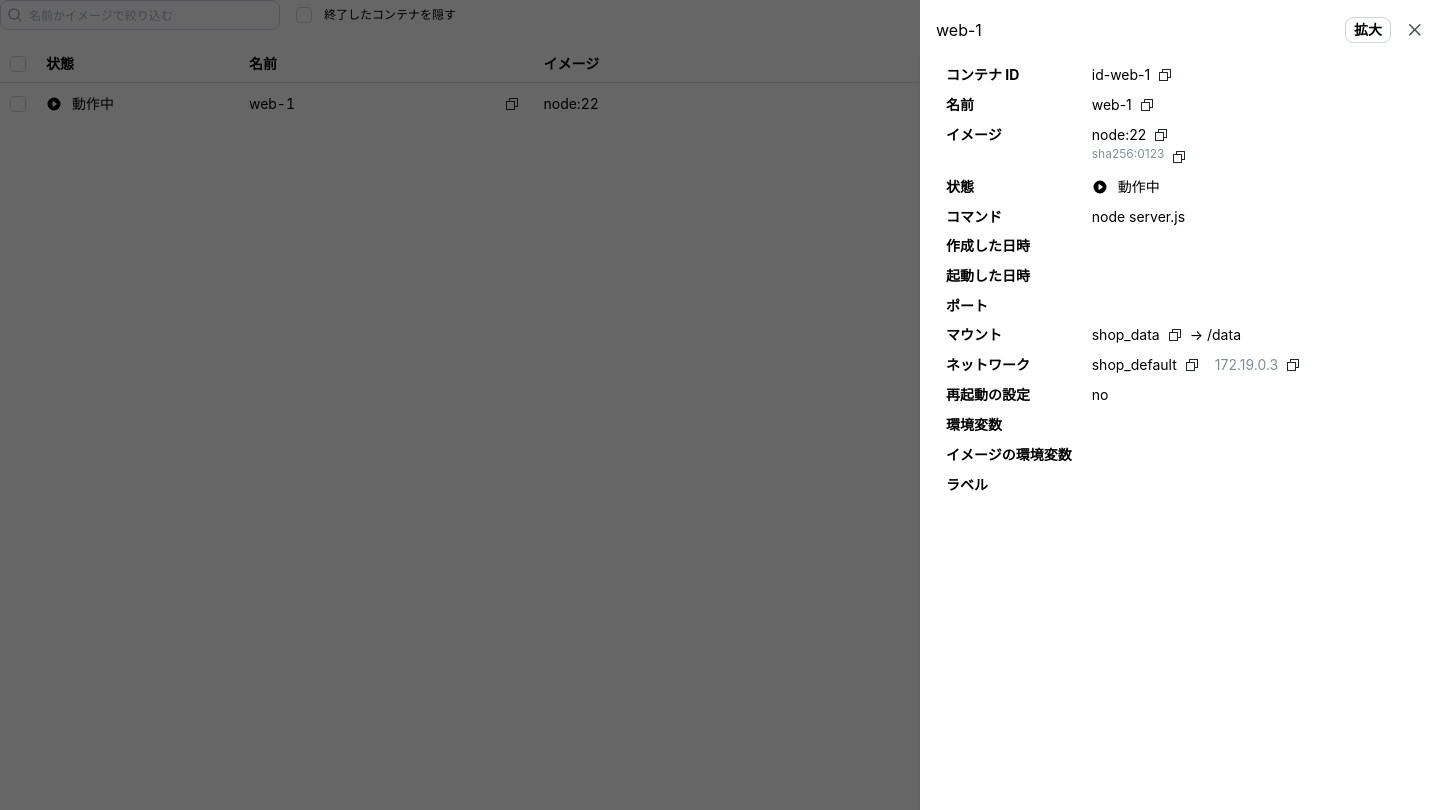
Scenario: ContainersView の詳細 › 「ボリューム shop_data の名前をコピー」を押すと、ボタンの左の値 shop_data をクリップボードに書き込み、ボタンの上に「コピーしました」を出す
The image size is (1440, 810).
Click the button named "ボリューム shop_data の名前をコピー" at (1175, 335), box [1164, 324, 1186, 346]
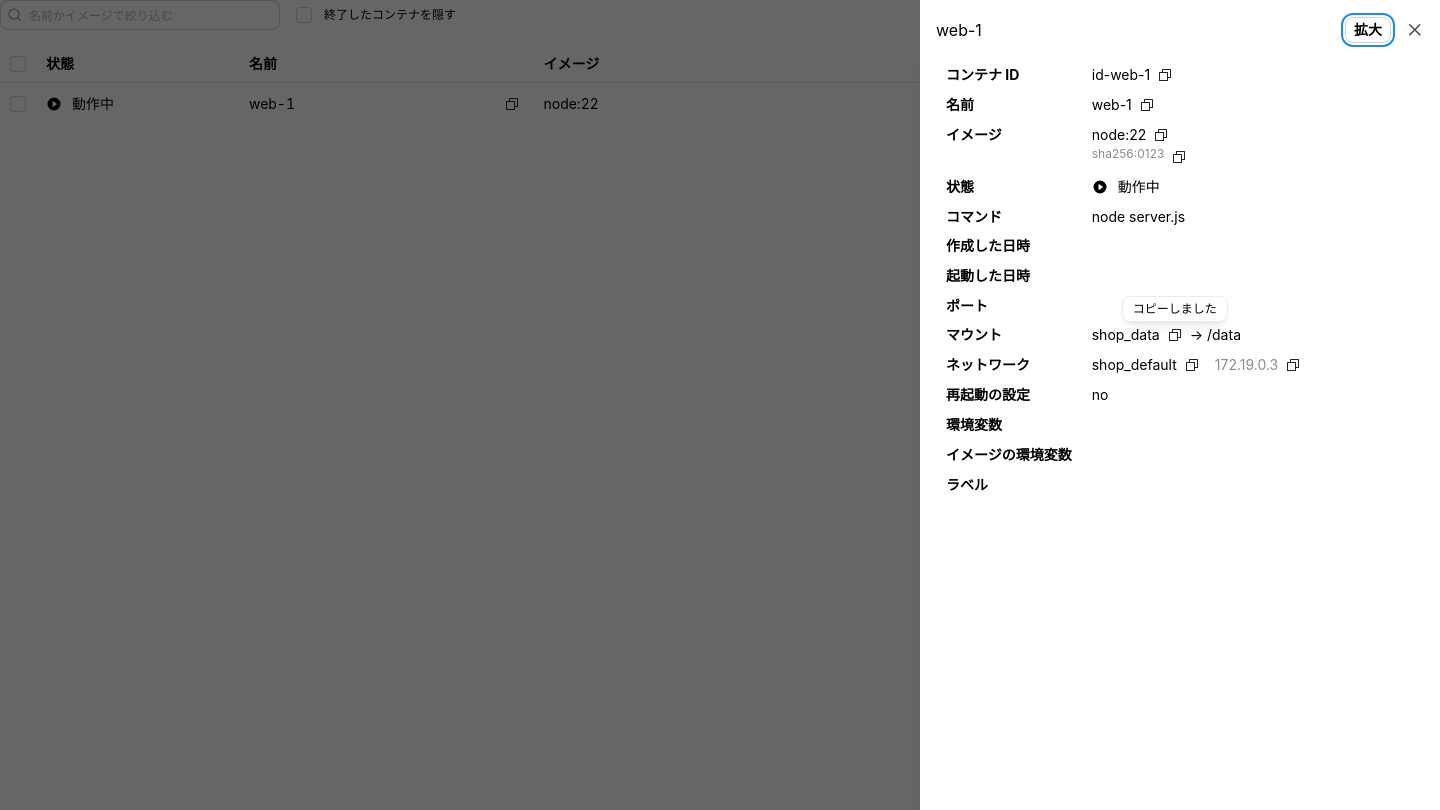
Expected: the message reads "コピーしました", [1133, 301, 1217, 316]
